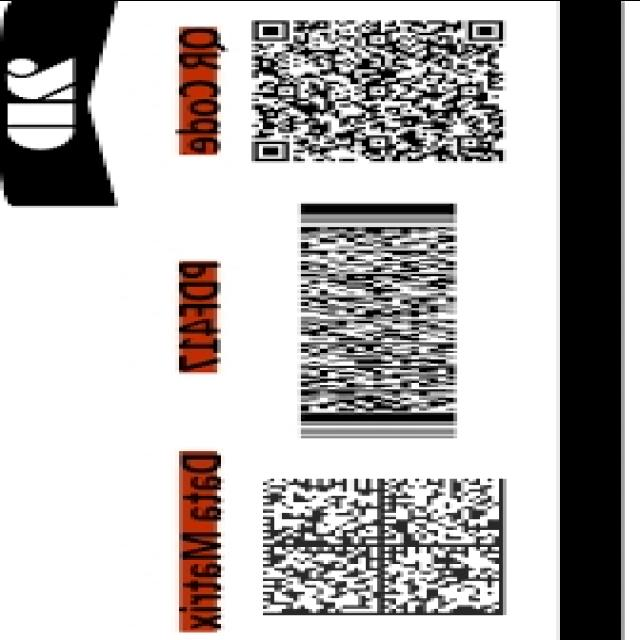DataMatrix: (251, 469, 522, 621)
